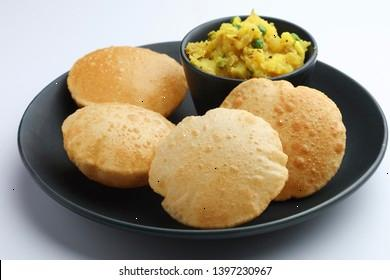puri: (66, 69, 221, 246), (172, 85, 349, 226)
